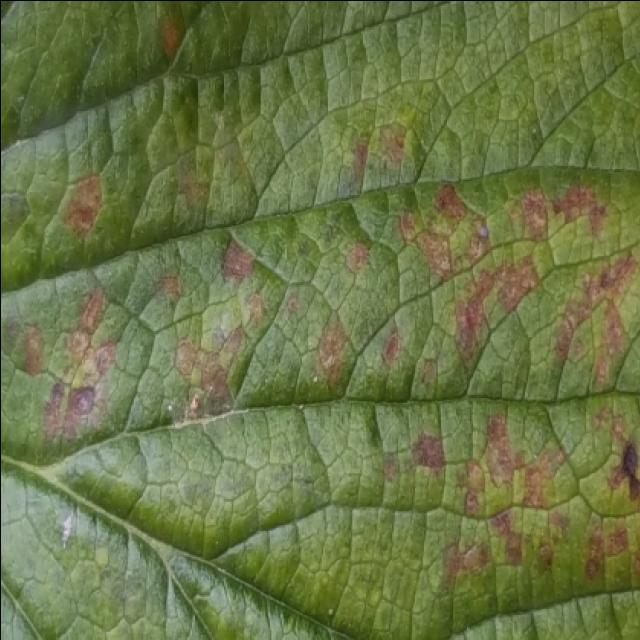Angular Leafspot: (0, 3, 638, 615)
